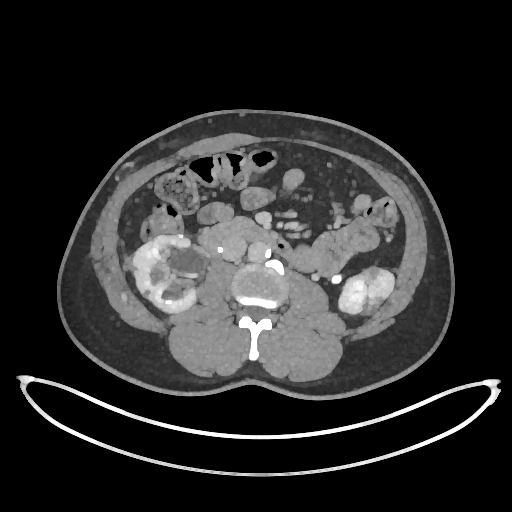Lesion: (358, 299, 381, 317)
